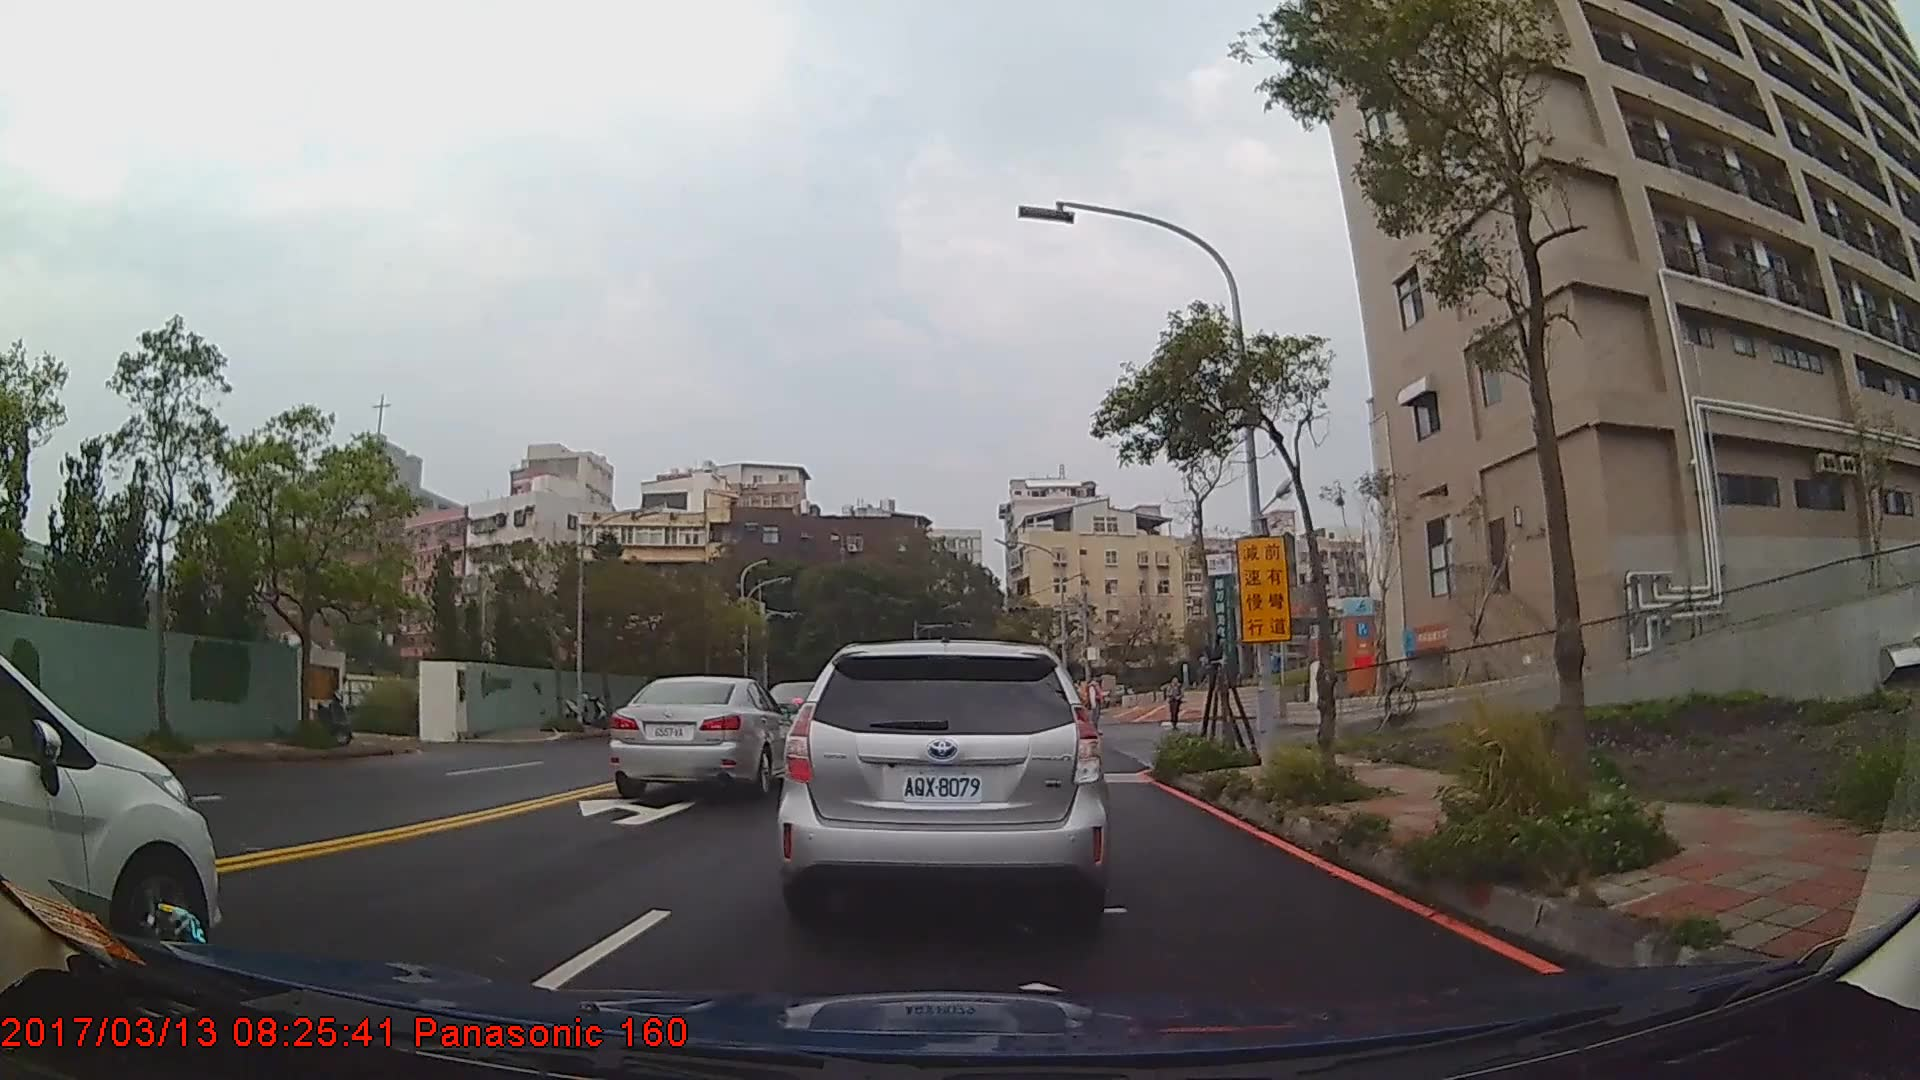pedestrian: (1084, 668, 1110, 742), (1168, 677, 1188, 731)
vehicle: (775, 637, 1112, 937), (0, 654, 223, 967), (610, 674, 796, 797)
